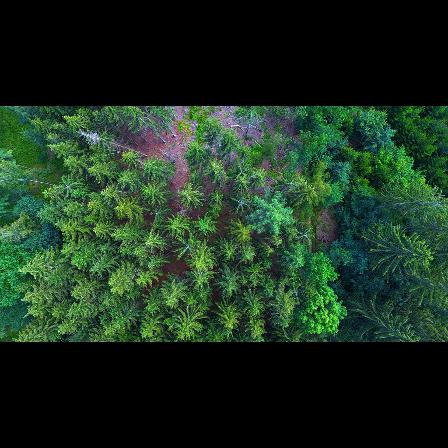Dead: (72, 130, 113, 148)
Sick: (230, 192, 252, 214), (293, 226, 315, 243)
